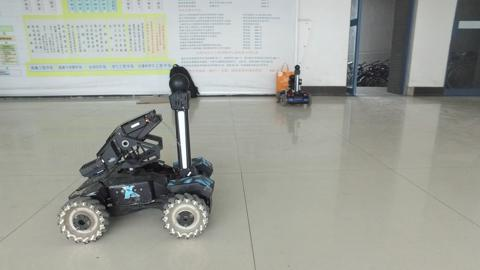bag: (165, 59, 202, 99)
chariot: (55, 73, 232, 244), (271, 60, 319, 111)
